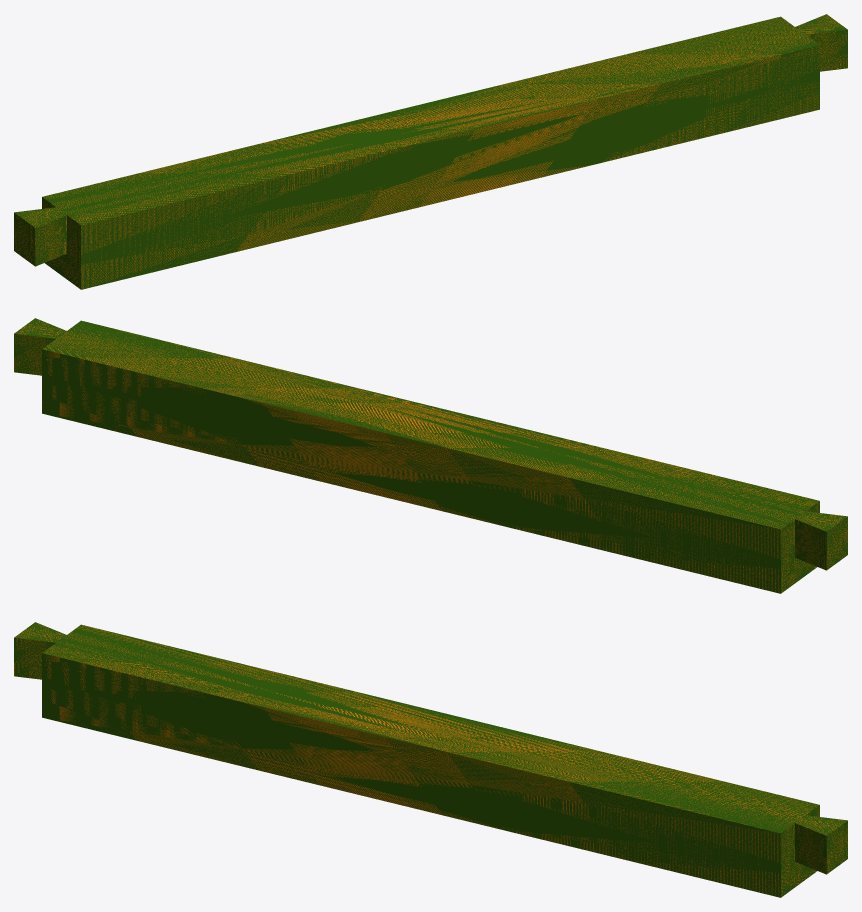
File: original-10.obj
3 views of the same model, one above another, from view 1: azimuth 30°, elevation 25°; view 2: azimuth 150°, elevation 25°; view 3: azimuth 330°, elevation 25° (orthographic).
Parts seen in each view (by area): view 1: Upper_Rail1/Upper_Rail/mesh8/mesh8-geometry#mesh8-geometry; view 2: Upper_Rail1/Upper_Rail/mesh8/mesh8-geometry#mesh8-geometry; view 3: Upper_Rail1/Upper_Rail/mesh8/mesh8-geometry#mesh8-geometry.
Boxes of the visible parts, x1,y1,x2,y2 form: Upper_Rail1/Upper_Rail/mesh8/mesh8-geometry#mesh8-geometry: (14,14,847,289); Upper_Rail1/Upper_Rail/mesh8/mesh8-geometry#mesh8-geometry: (14,318,847,593); Upper_Rail1/Upper_Rail/mesh8/mesh8-geometry#mesh8-geometry: (14,622,847,897).
Bounding box in the file's own units: 0.6616 × 0.0501 × 0.0551.
